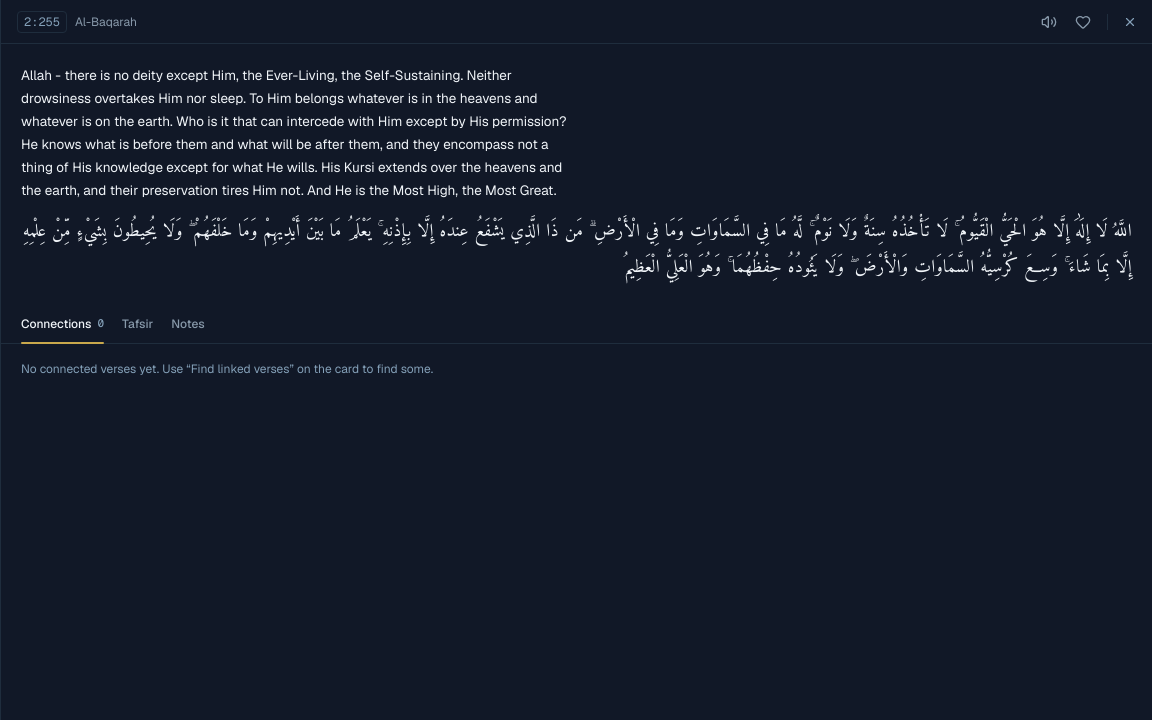
Test: ContextSidebar — note delete checks response status › keeps the note in state and surfaces an error when the DELETE response is not ok
Click the tab "Notes" at [188, 323], box [163,304,213,343]
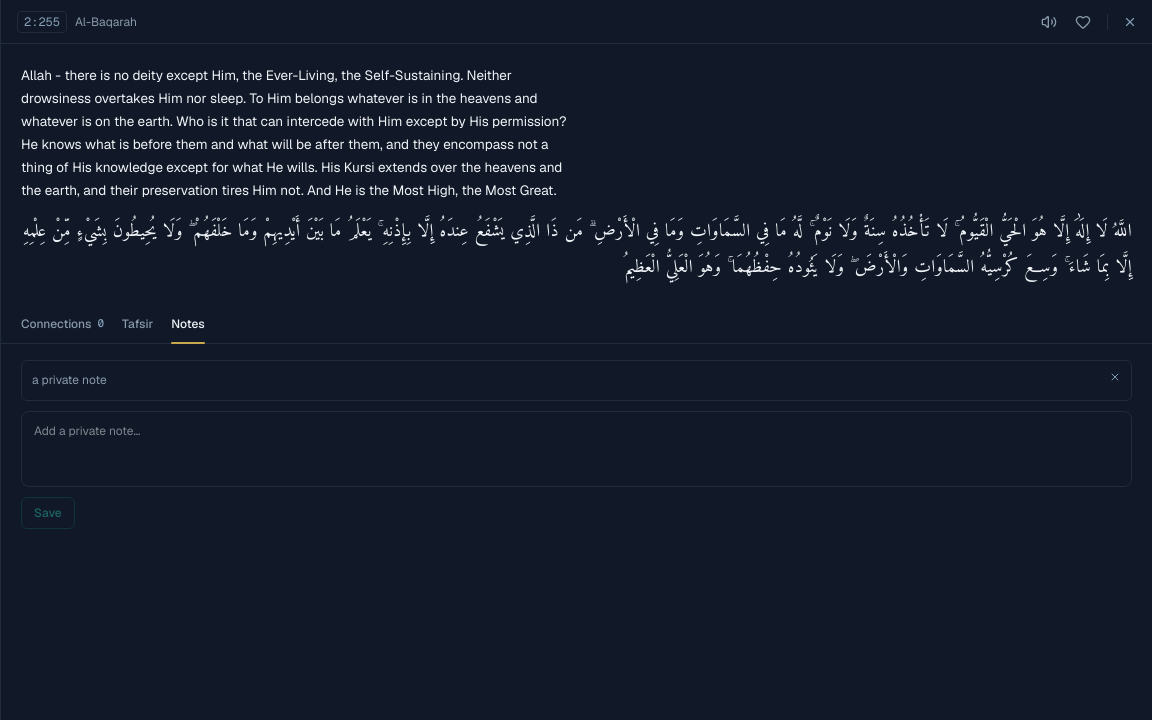
Check: the text "a private note" is shown, box [32,372,107,388]
Click the button named "Delete note" at [1115, 377], box [1109,371,1121,383]
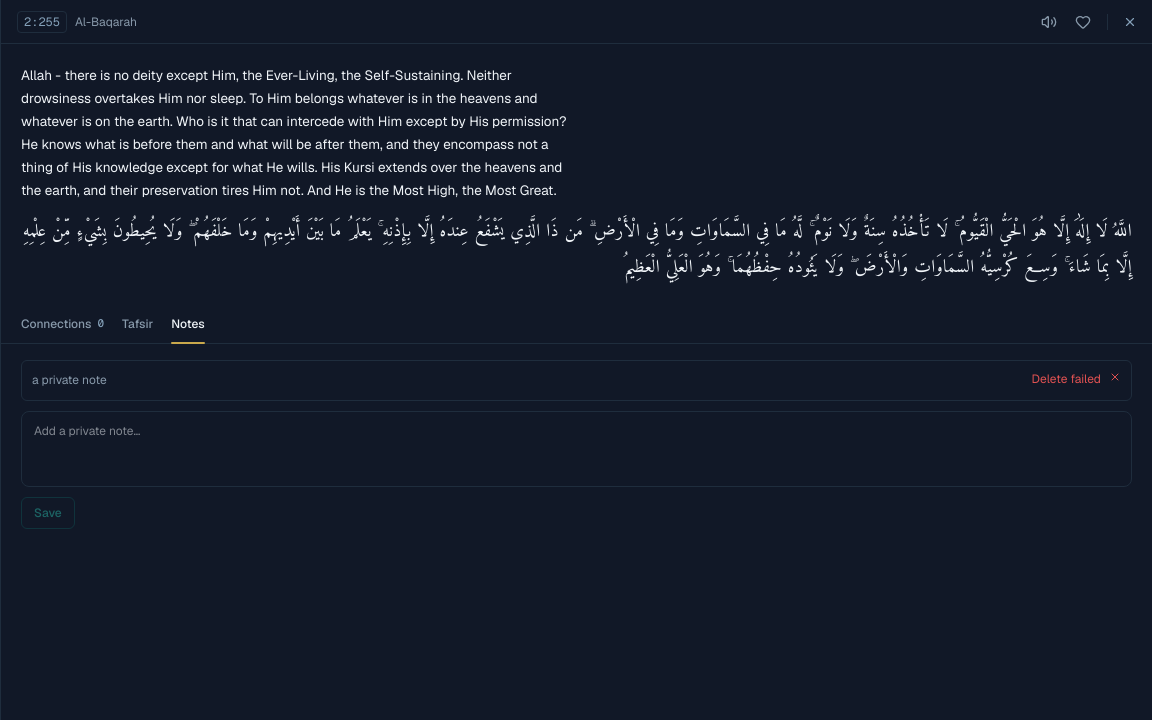
Check: the text "a private note" is shown, box [32,372,107,388]
Check: the text "Delete failed" is shown, box [1032,371,1101,387]
